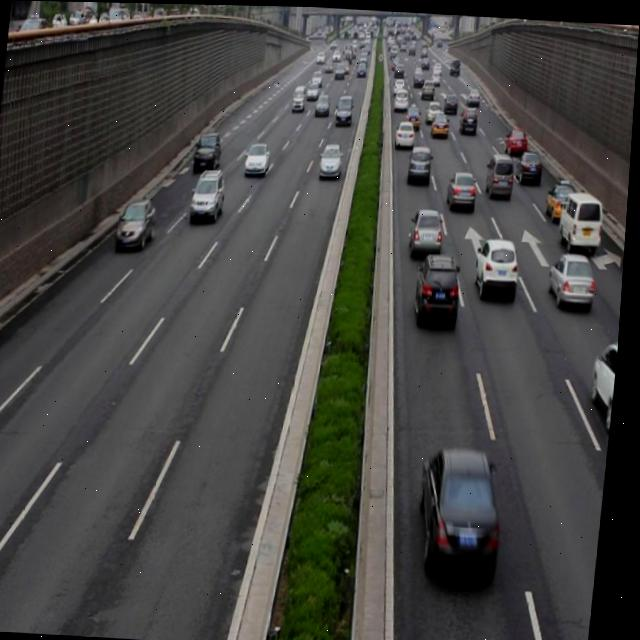car: (418, 440, 512, 575), (414, 248, 466, 324), (475, 233, 523, 297), (549, 246, 601, 305), (590, 334, 623, 423), (117, 194, 161, 250), (410, 202, 448, 257), (192, 165, 229, 221), (544, 176, 580, 221), (447, 164, 479, 210), (194, 128, 226, 173), (516, 144, 544, 185), (245, 138, 273, 177), (408, 141, 435, 181), (319, 139, 345, 178), (504, 123, 530, 157), (395, 116, 417, 149), (460, 102, 480, 132), (431, 107, 451, 135)
truck: (558, 187, 605, 247), (486, 148, 517, 197)
